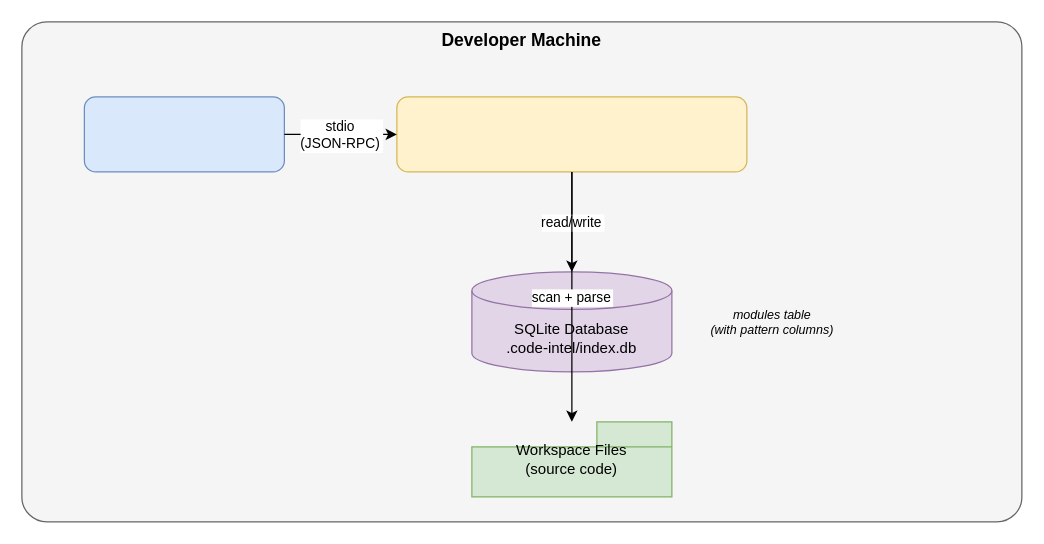
Image size: 1044x544. Some labels were removed from this diagram. Here are the shapes that lost their labels. From the top down, the centre of each, then its label:
At point (183, 134): "AI Agent / IDE".
At point (571, 134): "MCP Server Process (Node.js / Python / Kotlin / Bash / PS / CMD)".
